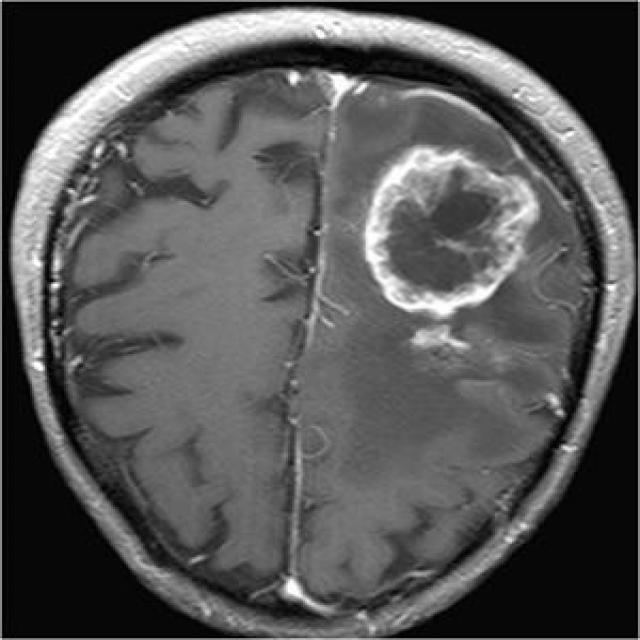Tumor: (367, 145, 537, 311)
